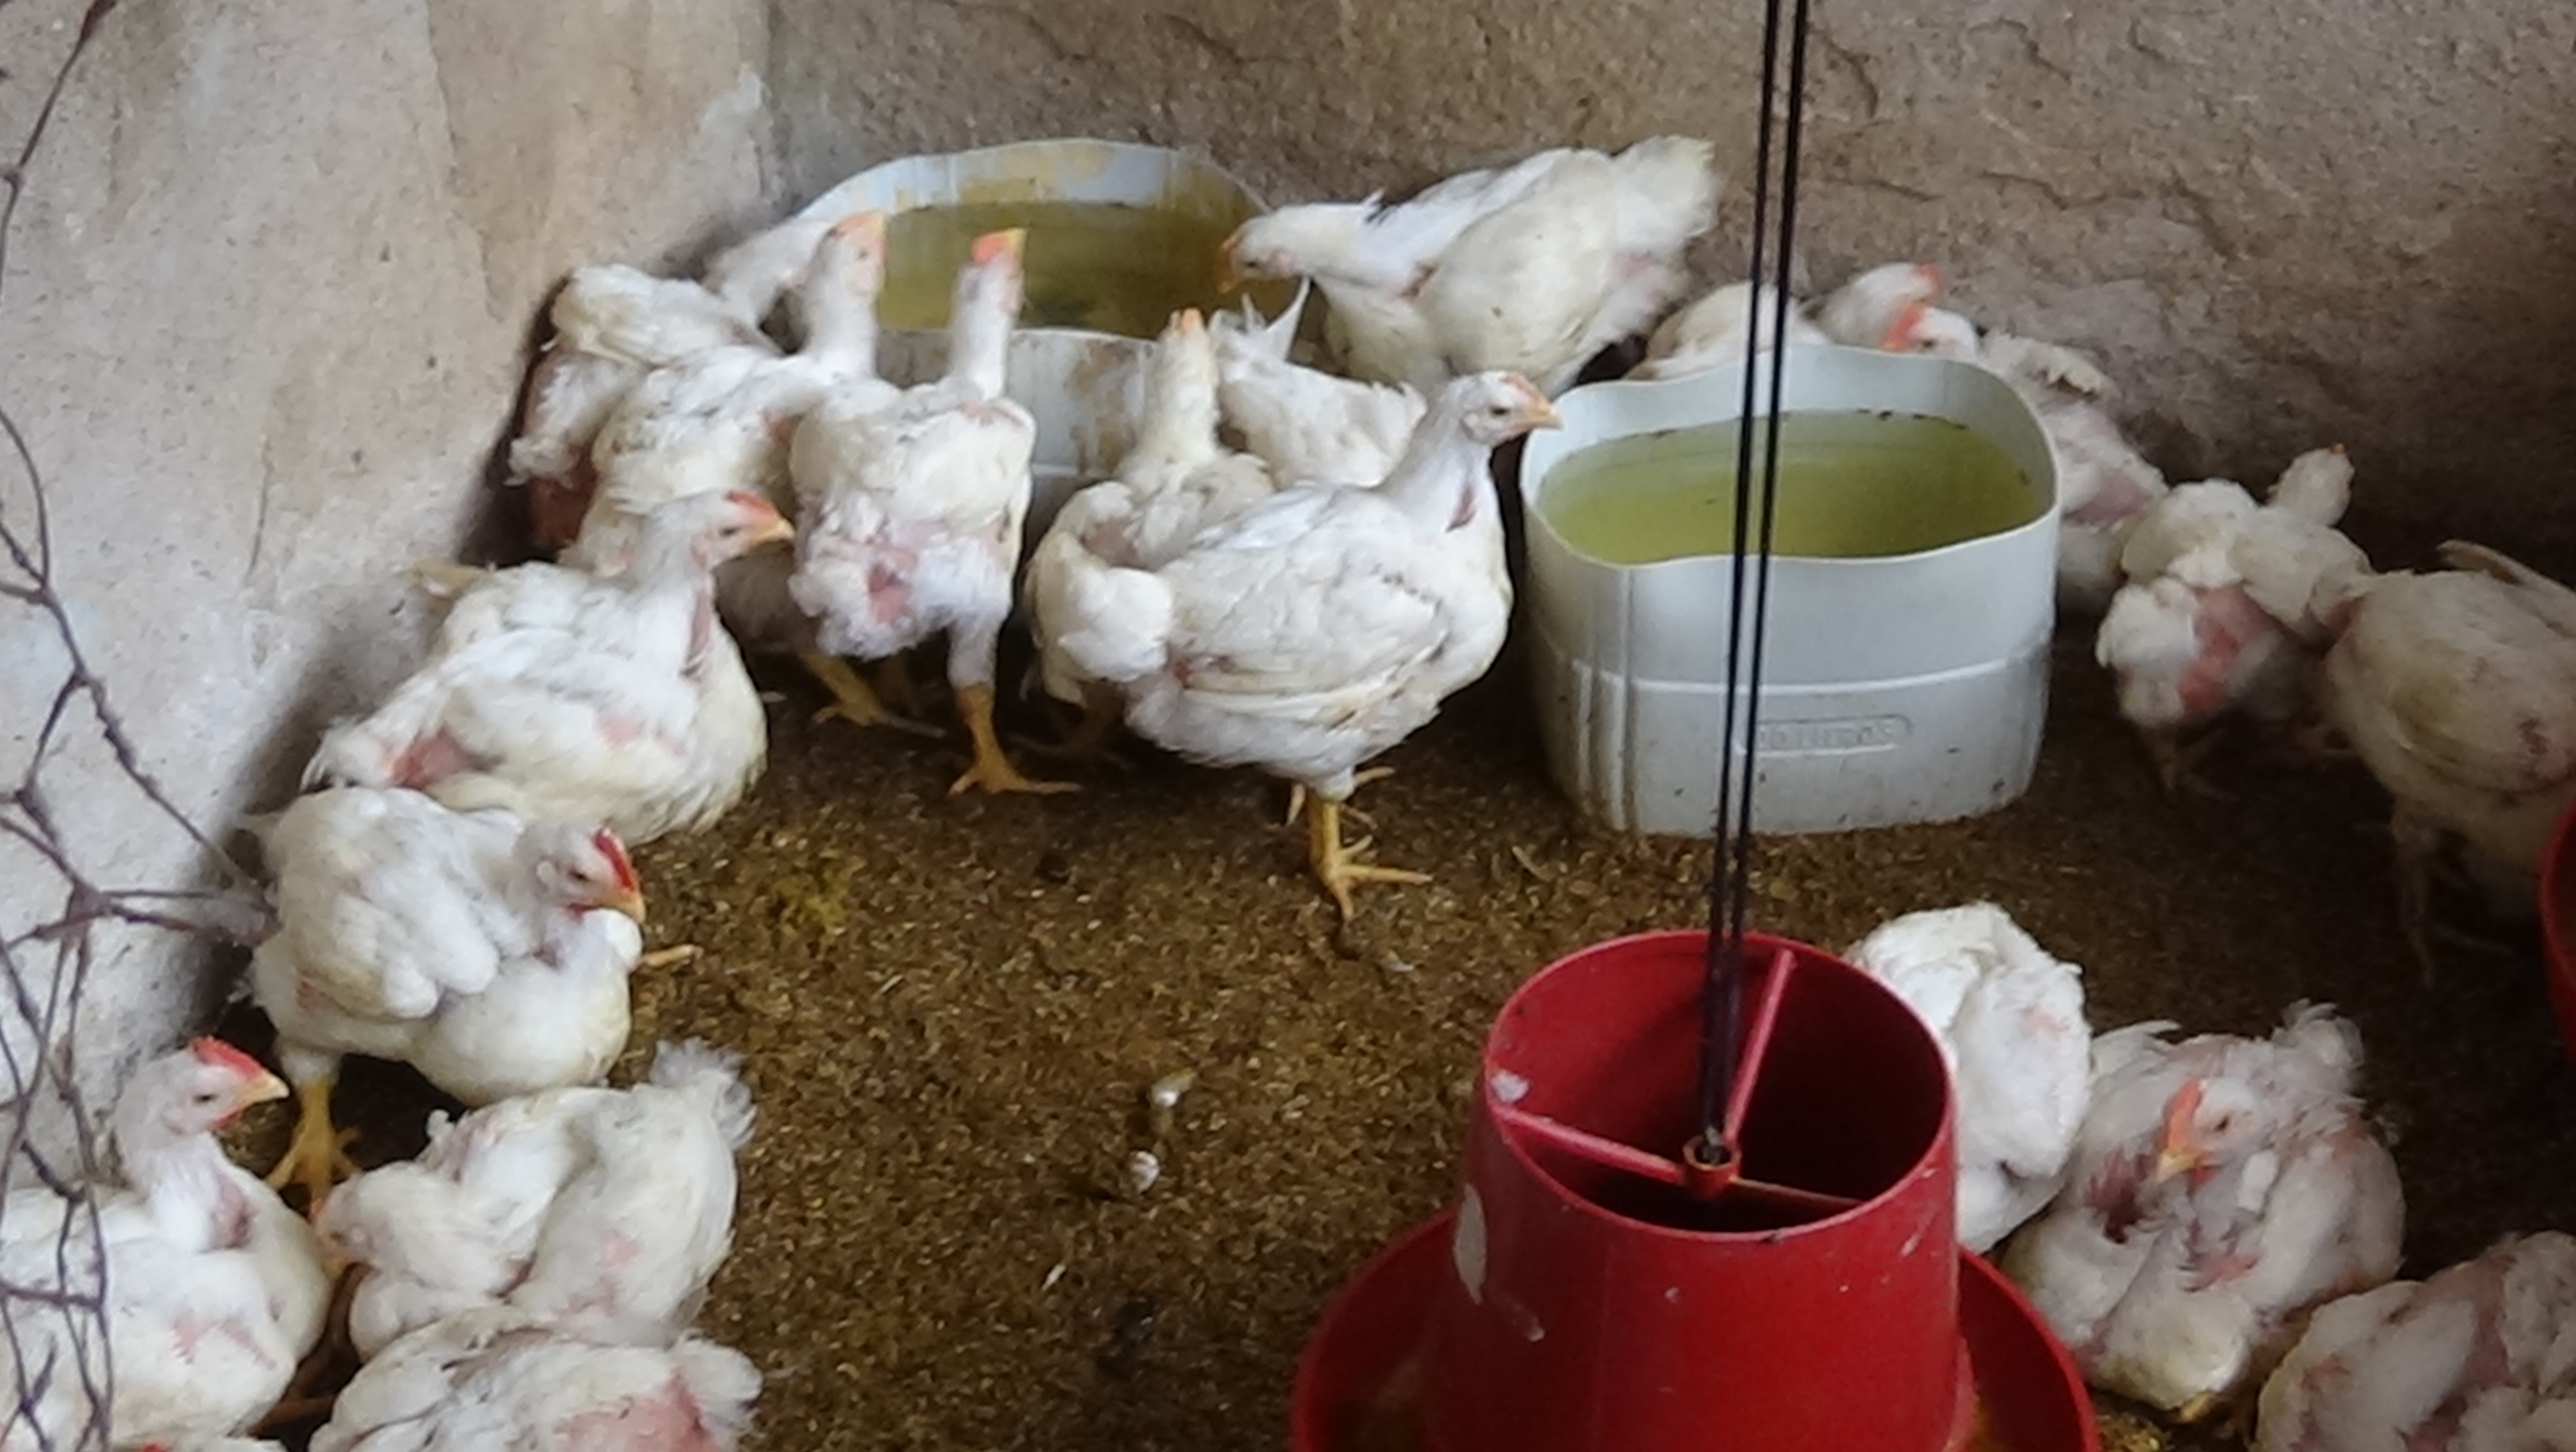Pollos: (1051, 352, 1580, 930), (219, 786, 694, 1167), (791, 230, 1085, 818), (2051, 976, 2401, 1410), (633, 166, 915, 692), (432, 450, 814, 836), (0, 1041, 352, 1452), (290, 1036, 787, 1325), (1212, 127, 1744, 395), (2309, 517, 2576, 938), (2066, 423, 2394, 763), (1783, 880, 2088, 1234), (483, 225, 796, 519), (317, 1273, 761, 1452), (1890, 306, 2111, 443), (1716, 230, 1941, 344)
